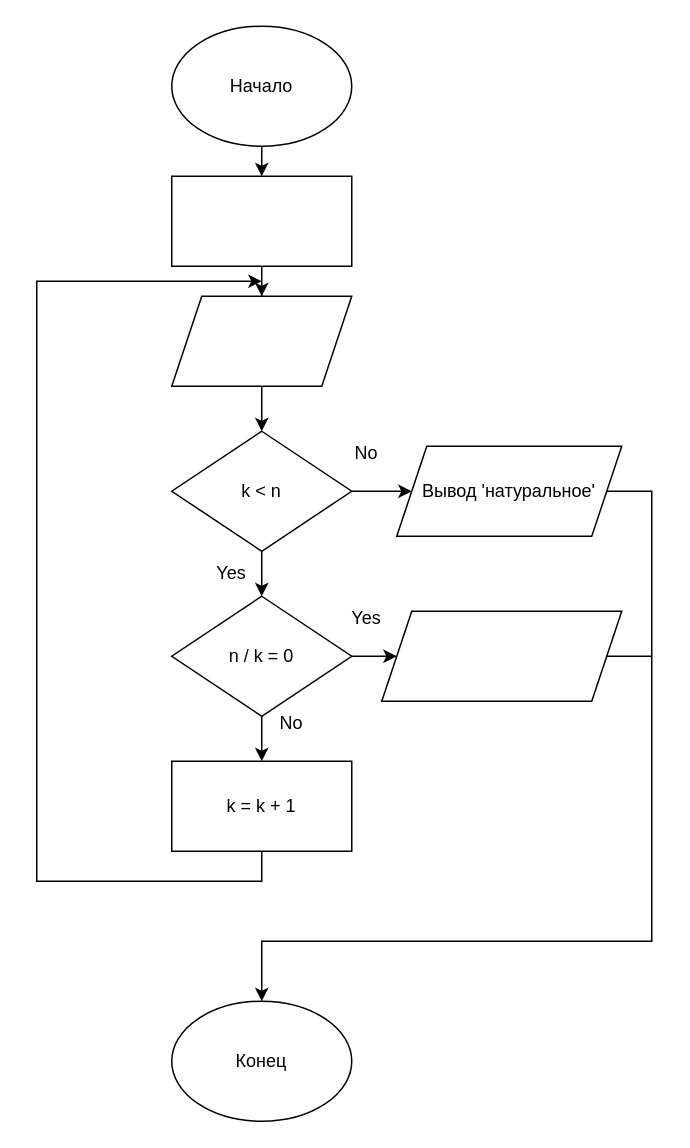
The diagram is 690 pixels wide and 1148 high, and some of its shapes have lost their labels. Each missing label, with the box of its shape:
k = 2: (170, 175, 352, 266)
Вводим n: (170, 295, 352, 386)
Вывод 'Не натуральное': (380, 610, 622, 701)
